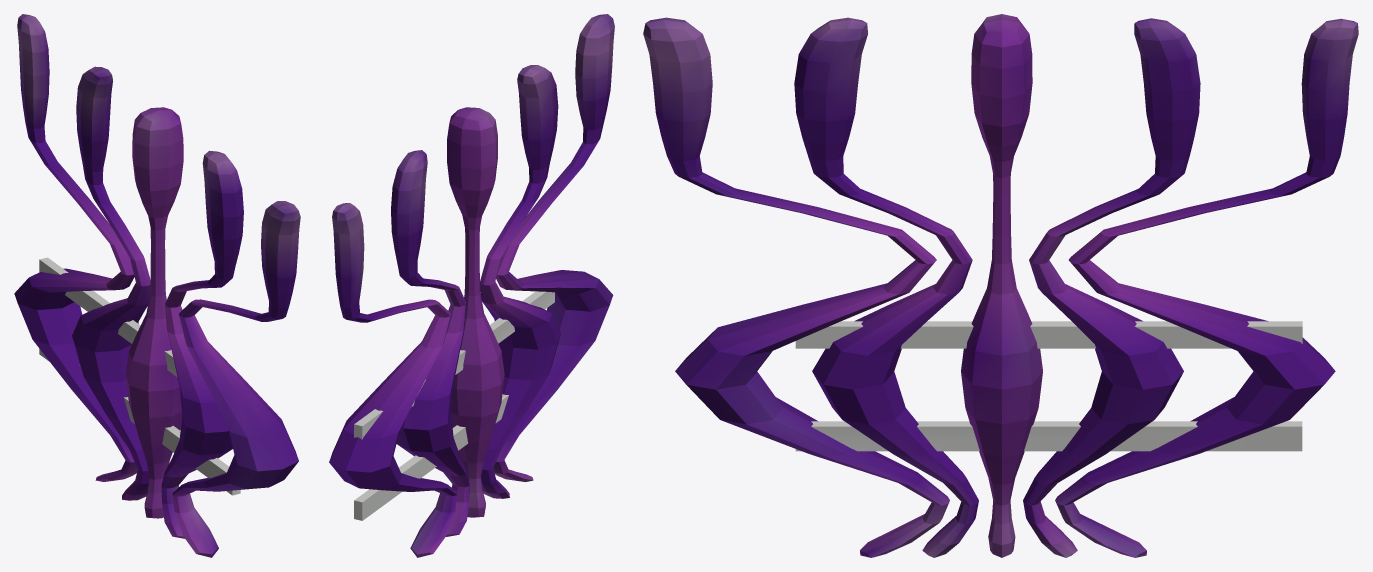
Rendered from fence-weird.fbx.
3 views of the same model, side by side, from view 1: azimuth 30°, elevation 25°; view 2: azimuth 150°, elevation 25°; view 3: azimuth 270°, elevation 25° (orthographic). The views are drawn at different scales.
Visible parts, largest first — view 1: Cube.001, Cube.005, Cube.006; view 2: Cube.001, Cube.006, Cube.005; view 3: Cube.001, Cube.006, Cube.005.
Part boxes in pixels (x1=…): Cube.001: x1=14, y1=14, x2=300, y2=557; Cube.005: x1=39, y1=257, x2=177, y2=377; Cube.006: x1=39, y1=349, x2=240, y2=495; Cube.001: x1=329, y1=14, x2=614, y2=557; Cube.006: x1=354, y1=394, x2=508, y2=520; Cube.005: x1=354, y1=291, x2=554, y2=439; Cube.001: x1=643, y1=14, x2=1358, y2=557; Cube.006: x1=795, y1=421, x2=1302, y2=451; Cube.005: x1=795, y1=321, x2=1302, y2=348.
Size of the model in its own units: 284 by 1925 by 2331.
